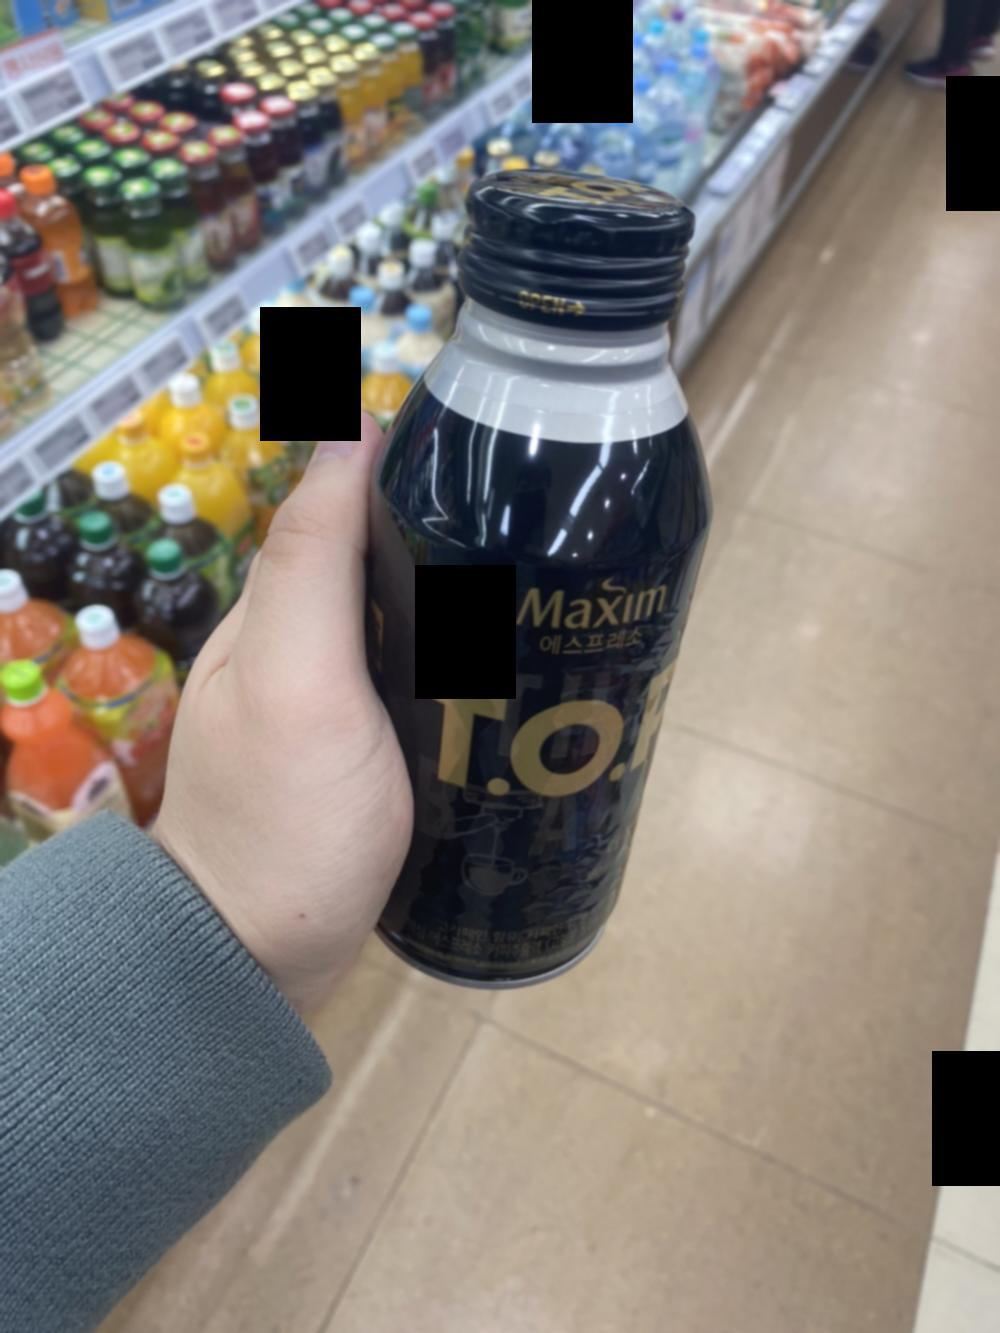TOP_black: (384, 172, 723, 979)
